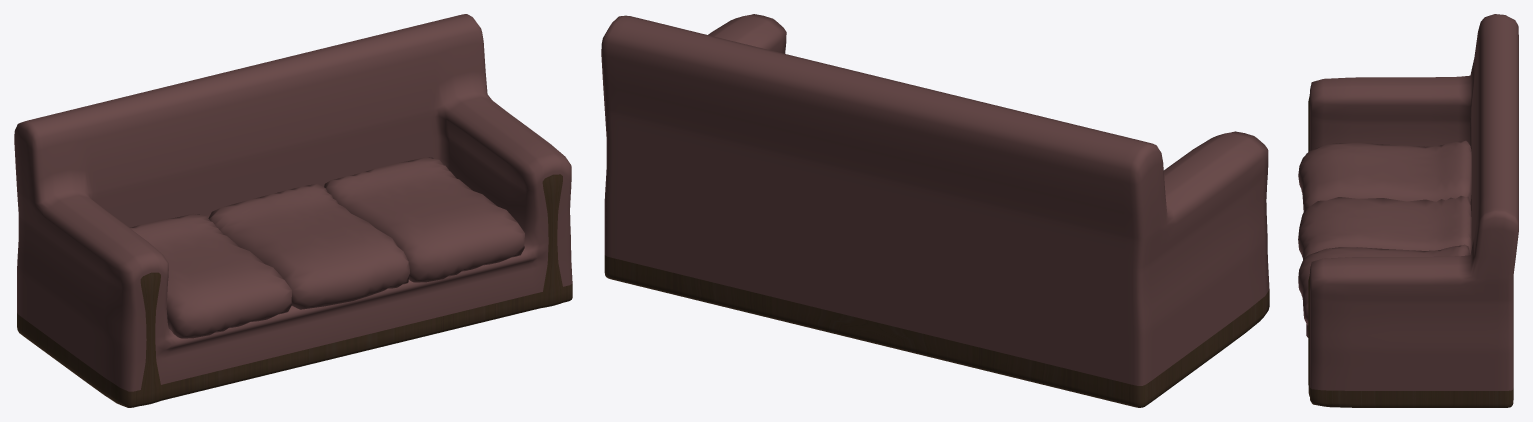
Rendered from couch_alt.glb.
3 views of the same model, side by side, from view 1: azimuth 30°, elevation 25°; view 2: azimuth 150°, elevation 25°; view 3: azimuth 270°, elevation 25° (orthographic). The views are drawn at different scales.
Parts seen in each view (by area): view 1: CouchAlt; view 2: CouchAlt; view 3: CouchAlt.
Part boxes in pixels (bbox=[...]): CouchAlt: bbox=[14, 14, 572, 407]; CouchAlt: bbox=[601, 14, 1269, 407]; CouchAlt: bbox=[1298, 14, 1518, 407].
Bounding box in the file's own units: 2.82 × 1.28 × 1.3.
2 materials, 1 textured.
